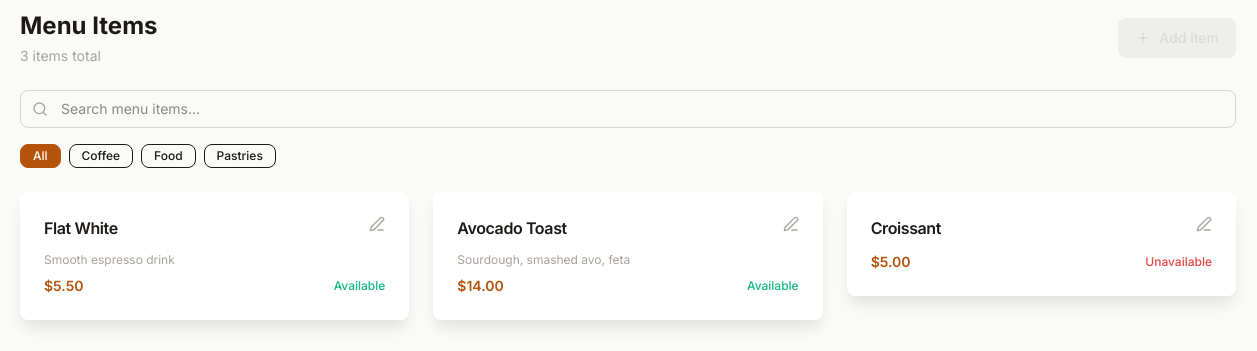
Test: MenuItemsGrid › filters items by category
Click the button "Food" at (168, 156), box [141,144,196,168]
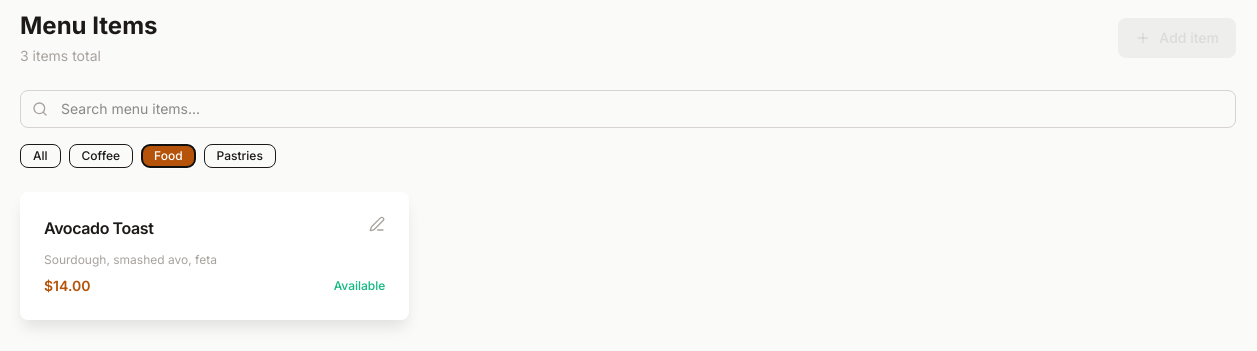
Expected: the heading "Avocado Toast" is shown, [44,216,154,240]
Result: the link "Flat White" is gone
